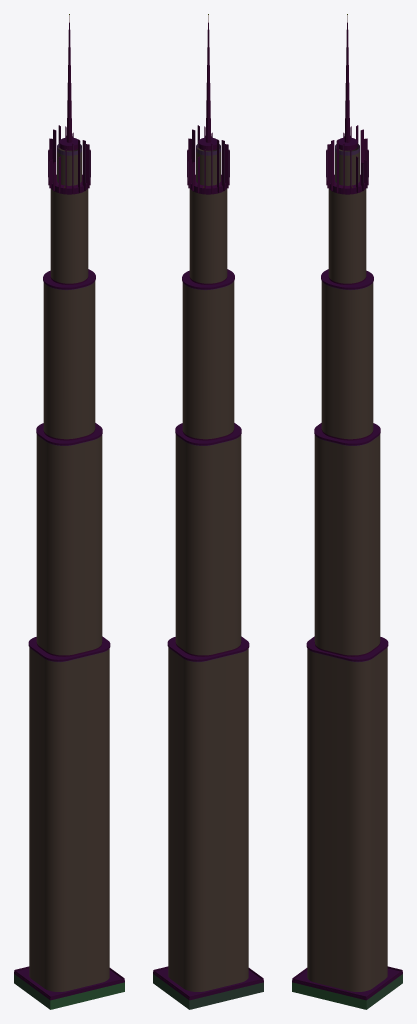
Rendered from landmark_round.glb.
3 renders of one model, left to right at view 1: azimuth 30°, elevation 25°; view 2: azimuth 210°, elevation 25°; view 3: azimuth 330°, elevation 25°, orthographic.
Visible parts, largest first — view 1: landmark_round; view 2: landmark_round; view 3: landmark_round.
Part boxes in pixels (<box>): landmark_round: <box>14,14,124,1009</box>; landmark_round: <box>153,14,263,1009</box>; landmark_round: <box>292,14,402,1009</box>.
Size of the model in its own units: 39.31 by 491 by 33.32.
